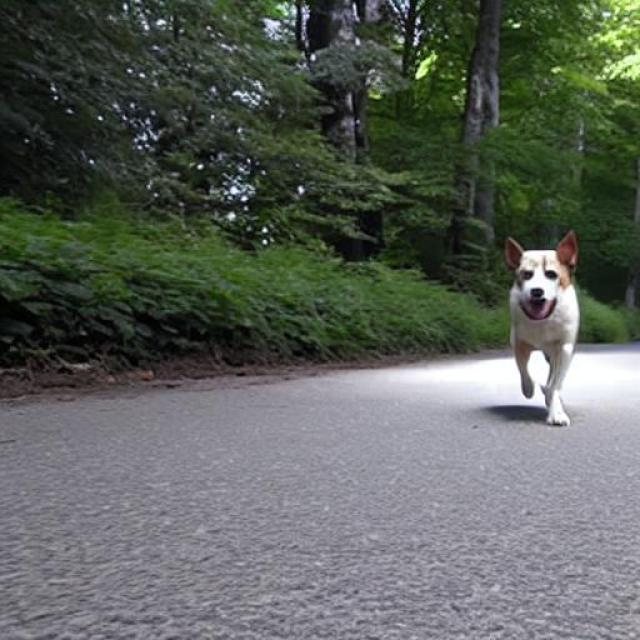Dog: (505, 228, 579, 426)
